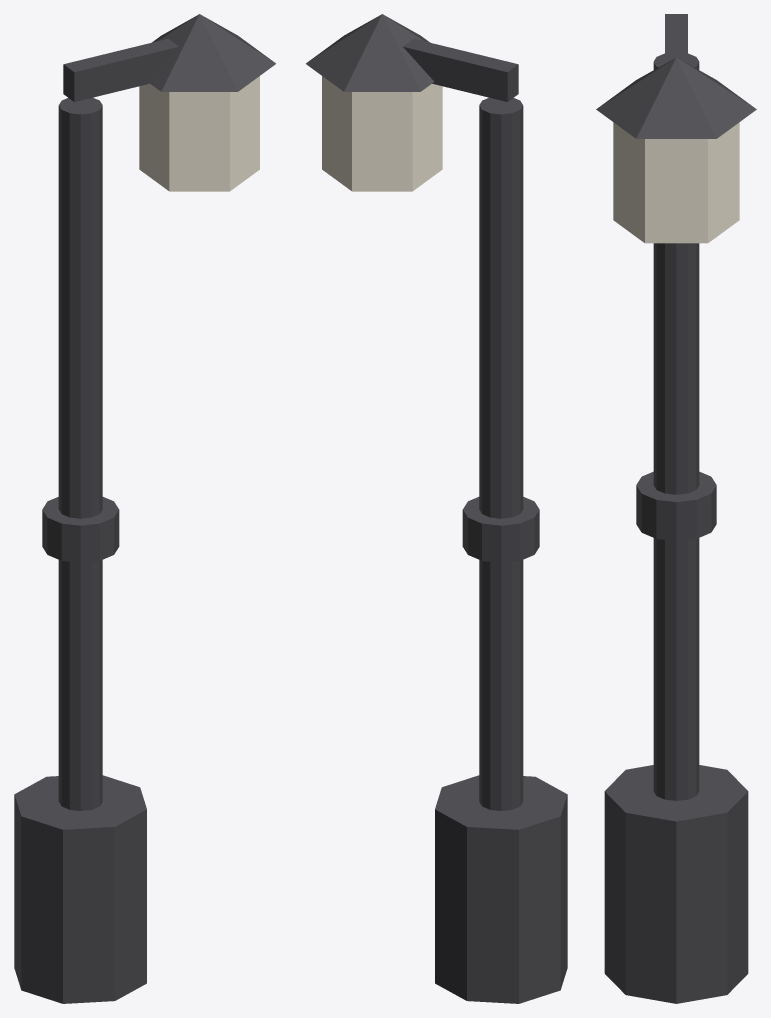
The model's file is SM_Farola_Colonial_GDL.fbx.
3 views of the same model, side by side, from view 1: azimuth 30°, elevation 25°; view 2: azimuth 150°, elevation 25°; view 3: azimuth 270°, elevation 25° (orthographic). The views are drawn at different scales.
Parts seen in each view (by area): view 1: SM_Farola_Colonial_GDL; view 2: SM_Farola_Colonial_GDL; view 3: SM_Farola_Colonial_GDL.
Part boxes in pixels (x1,y1,x2,y2): SM_Farola_Colonial_GDL: [14, 14, 275, 1003]; SM_Farola_Colonial_GDL: [306, 14, 567, 1003]; SM_Farola_Colonial_GDL: [596, 14, 756, 1003].
Size of the model in its own units: 0.9925 by 3.75 by 0.56.
